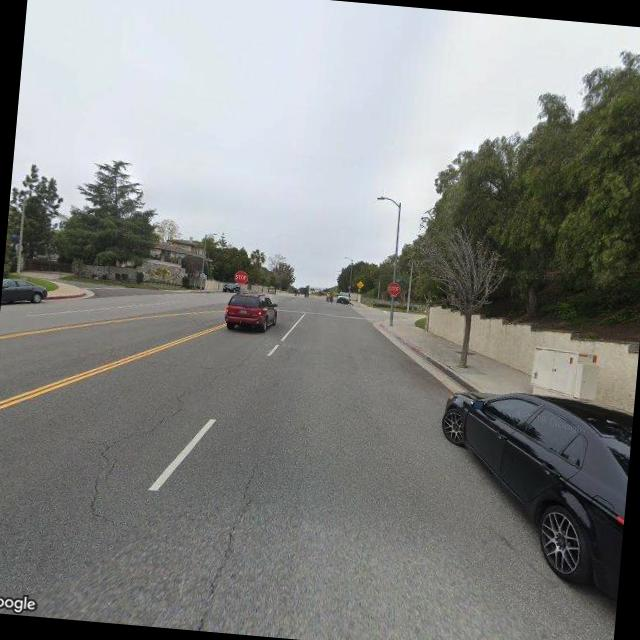pothole: (78, 380, 188, 526), (192, 456, 260, 634), (81, 435, 123, 526)
